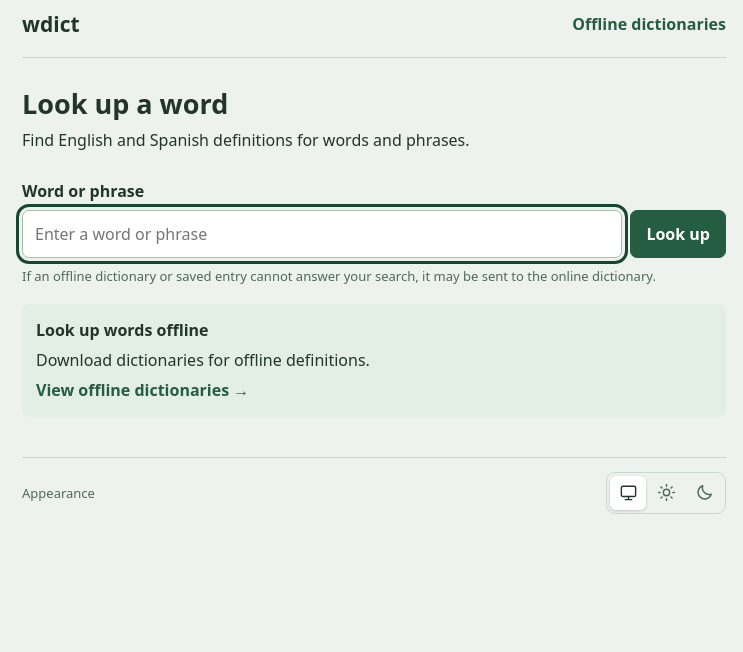
lookup and offline dictionary UI › given_stale_cache_when_provider_fails_then_saved_date_and_attribution_are_shown
The width and height of the screenshot is (743, 652).
Click the button "Look up".
click(678, 234)  # box [630,210,726,258]
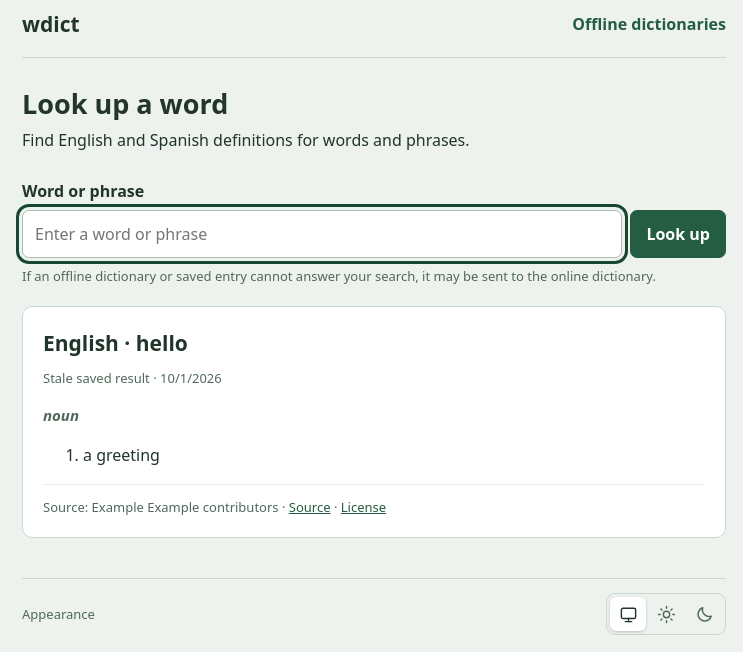
Expected: the text "Stale saved result · 10/1/2026" is shown, [43,369,222,387]
Expected: the text "Source: Example Example contributors · Source · License" is shown, [43,484,705,517]
